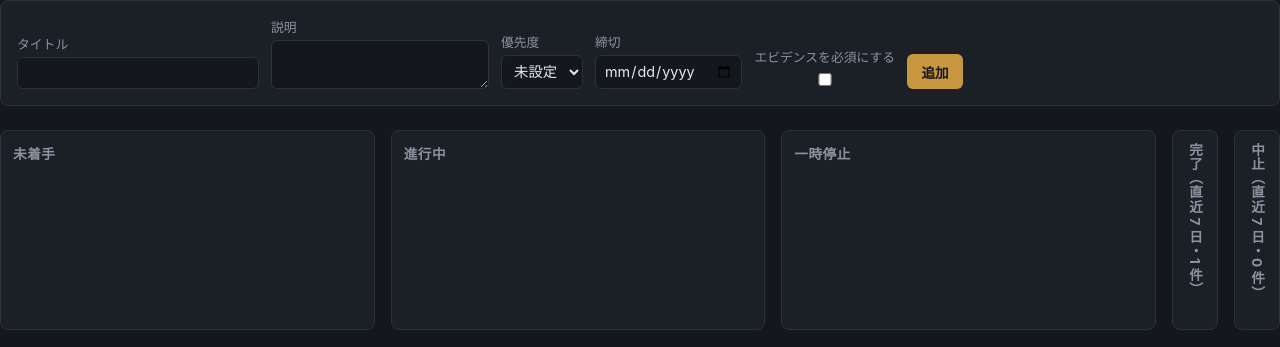
Scenario: TaskBoard › 完了/中止 列の直近ウィンドウ (#428) › shows a 完了 task completed today (AC-6)
Click the button "完了（直近 7 日・1 件）". click: (1195, 220)
box: [1185,143,1205,296]
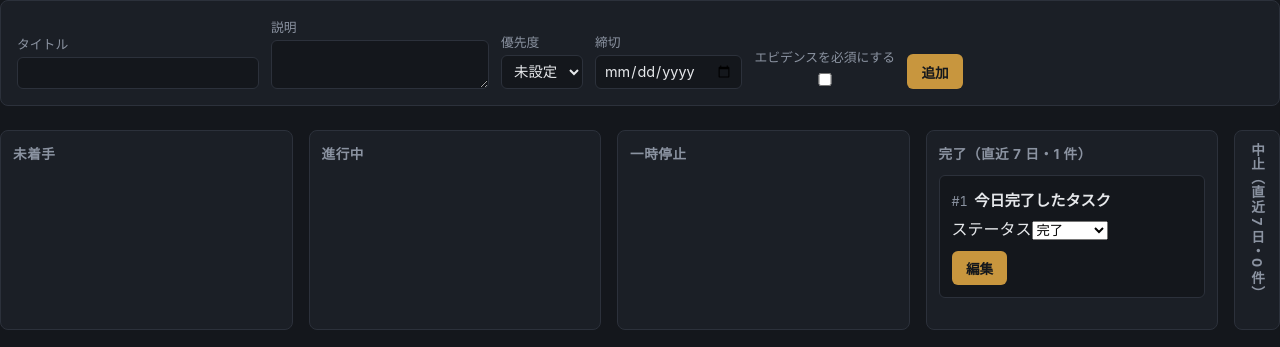
Expected: the button "完了（直近 7 日・1 件）" is expanded, [938,143,1205,163]
Expected: the heading "今日完了したタスク" is shown, [974,188,1111,210]
